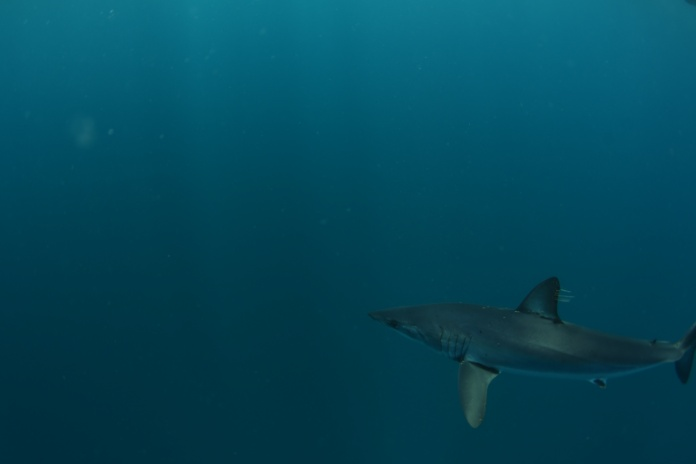Mako: (361, 270, 696, 432)
